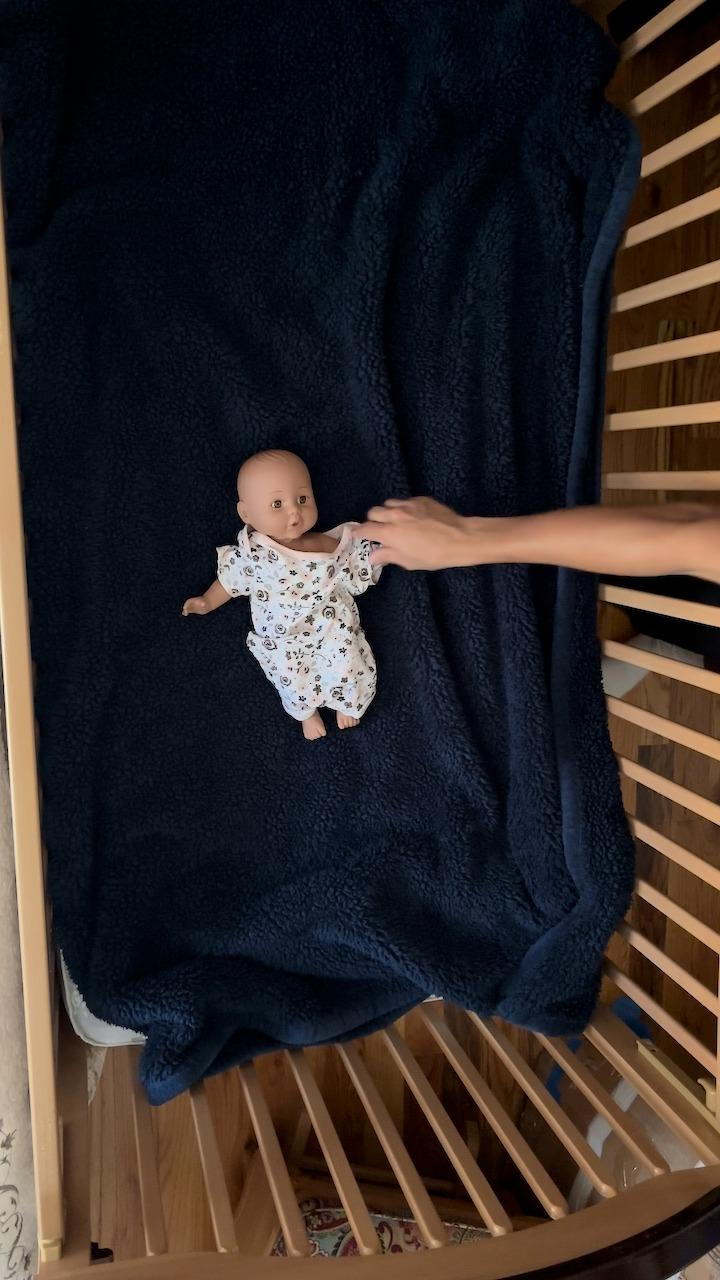baby: (182, 448, 396, 743)
